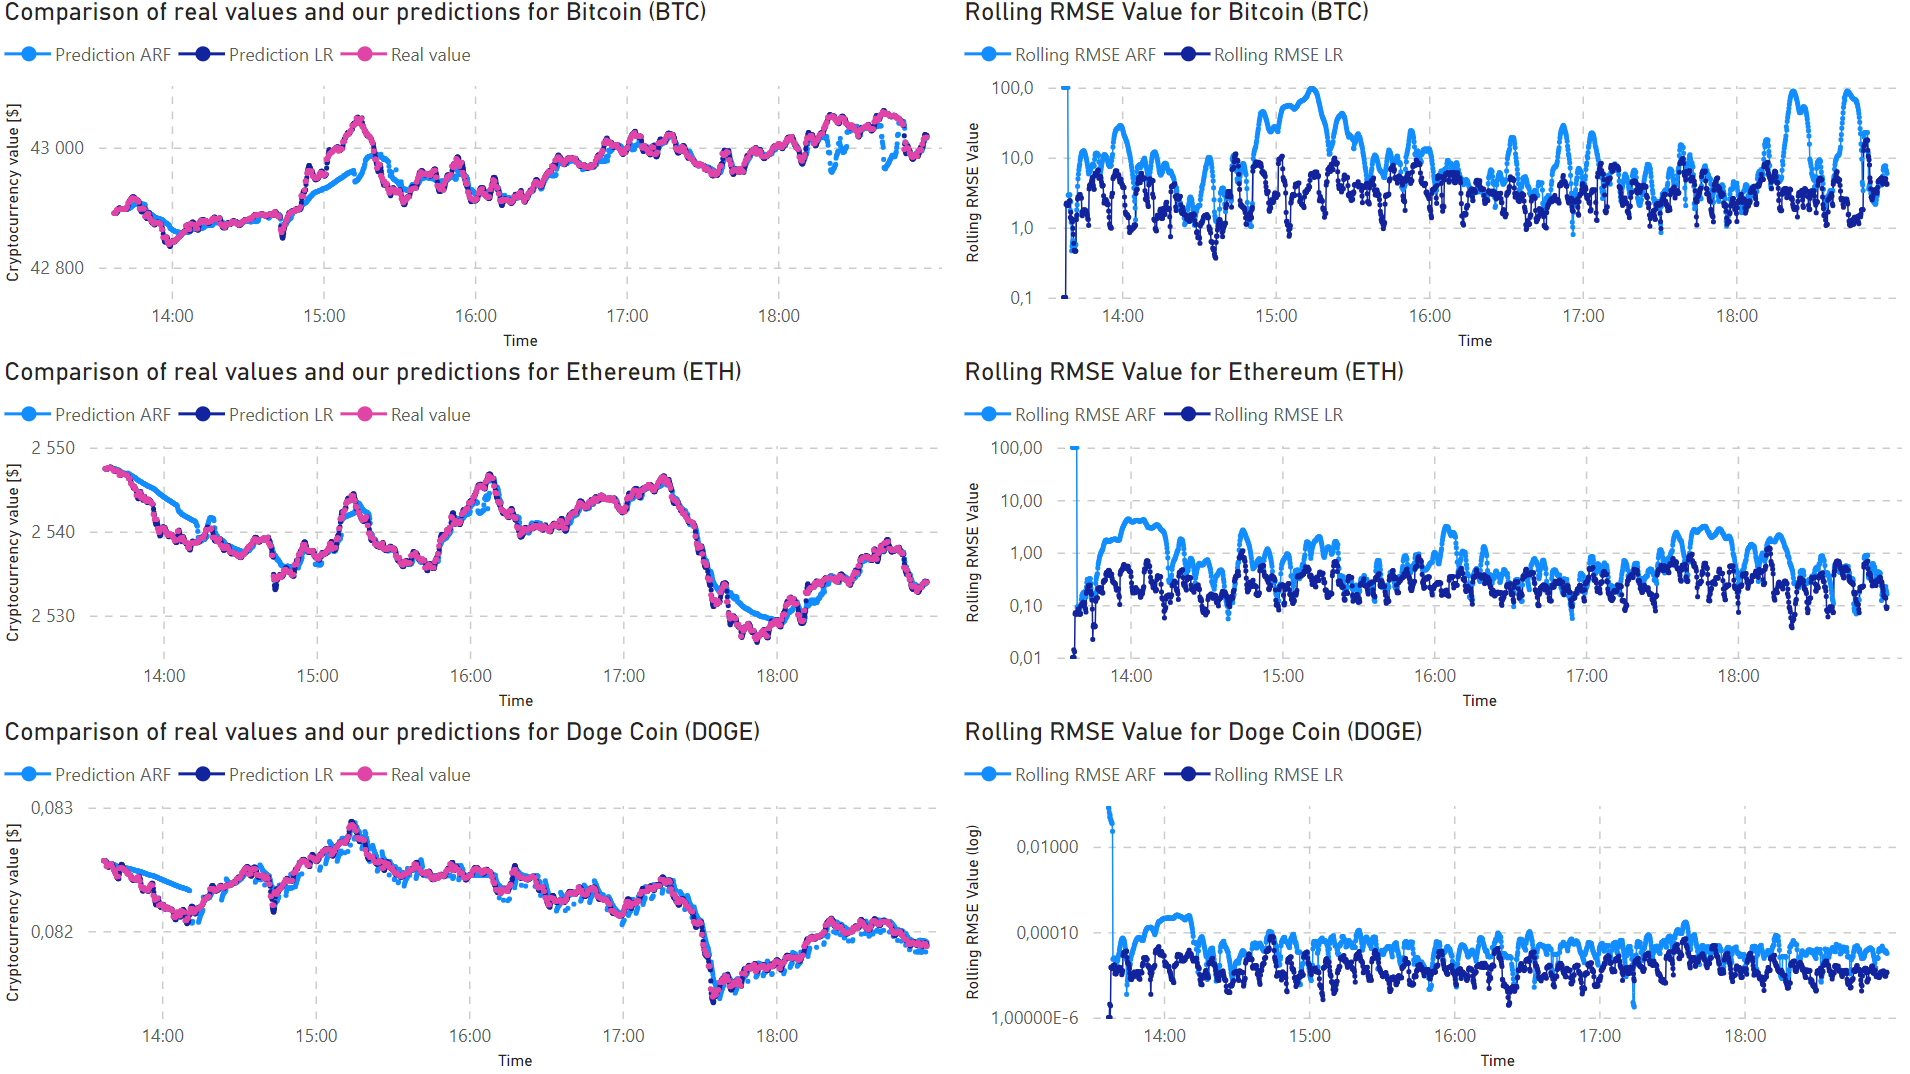

The page's visual inventory and layout, read from the dashboard file:
{"tool":"powerbi","page":{"name":"Real Time Views","canvas":[1280,720],"ordinal":2},"visuals":[{"type":"lineChart","title":"Comparison of real values and our predictions for Bitcoin (BTC)","fields":{"Y":["Avg(ratespredictions.prediction_previous_value_arf)","Avg(ratespredictions.prediction_previous_value_lr)","Avg(ratespredictions.real_previous_value)"],"Category":["ratespredictions.start_window"]},"box":[0,0,640,240],"z":0},{"type":"lineChart","title":"Comparison of real values and our predictions for Doge Coin (DOGE)","fields":{"Y":["Avg(ratespredictions.prediction_previous_value_arf)","Avg(ratespredictions.prediction_previous_value_lr)","Avg(ratespredictions.real_previous_value)"],"Category":["ratespredictions.start_window"]},"box":[0,480,640,240],"z":2},{"type":"lineChart","title":"Comparison of real values and our predictions for Ethereum (ETH)","fields":{"Y":["Avg(ratespredictions.prediction_previous_value_arf)","Avg(ratespredictions.prediction_previous_value_lr)","Avg(ratespredictions.real_previous_value)"],"Category":["ratespredictions.start_window"]},"box":[0,240,640,240],"z":3},{"type":"lineChart","title":"Rolling RMSE Value for Bitcoin (BTC)","fields":{"Category":["ratespredictions.start_window"],"Y":["Avg(ratespredictions.rolling_rmse_arf)","Avg(ratespredictions.rolling_rmse_lr)"]},"box":[640,0,640,240],"z":4},{"type":"lineChart","title":"Rolling RMSE Value for Ethereum (ETH)","fields":{"Category":["ratespredictions.start_window"],"Y":["Avg(ratespredictions.rolling_rmse_arf)","Avg(ratespredictions.rolling_rmse_lr)"]},"box":[640,240,640,240],"z":5},{"type":"lineChart","title":"Rolling RMSE Value for Doge Coin (DOGE)","fields":{"Category":["ratespredictions.start_window"],"Y":["Avg(ratespredictions.rolling_rmse_arf)","Avg(ratespredictions.rolling_rmse_lr)"]},"box":[640,480,640,240],"z":6}]}

Visuals, with their boxes in screenshot pixels (x1, y1, x2, y2), scaled from the page's 1280x720 canvas onto the 1910x1074 screenshot:
"Comparison of real values and our predictions for Bitcoin (BTC)" lineChart: Rect(0, 0, 955, 358)
"Comparison of real values and our predictions for Doge Coin (DOGE)" lineChart: Rect(0, 716, 955, 1073)
"Comparison of real values and our predictions for Ethereum (ETH)" lineChart: Rect(0, 358, 955, 716)
"Rolling RMSE Value for Bitcoin (BTC)" lineChart: Rect(955, 0, 1909, 358)
"Rolling RMSE Value for Ethereum (ETH)" lineChart: Rect(955, 358, 1909, 716)
"Rolling RMSE Value for Doge Coin (DOGE)" lineChart: Rect(955, 716, 1909, 1073)
